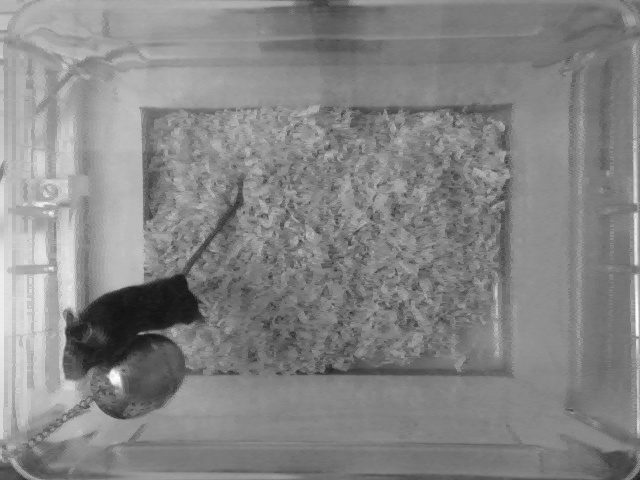mice: (55, 178, 276, 380)
